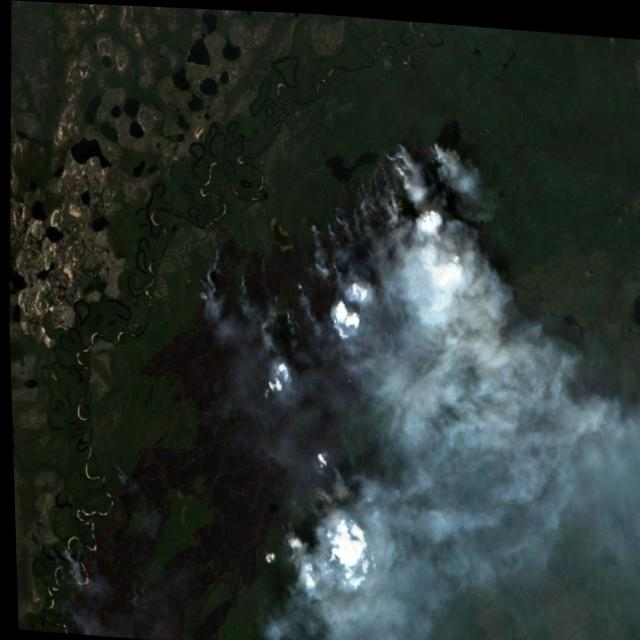fire: (45, 104, 460, 640)
